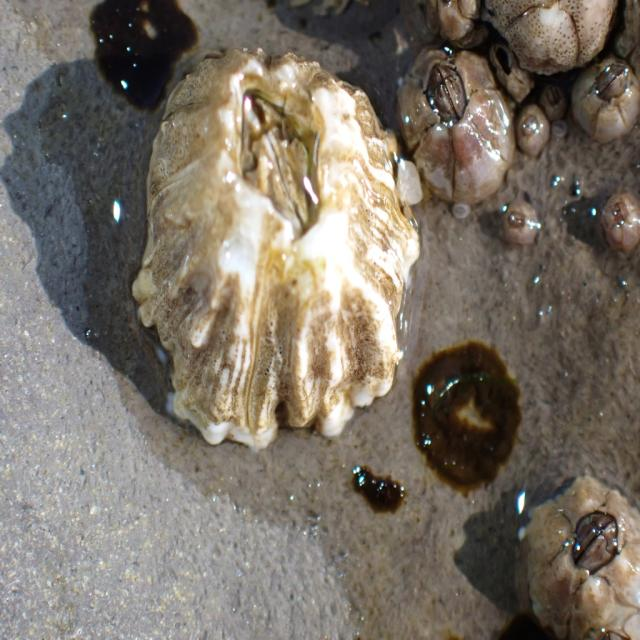barnacles: (132, 49, 420, 461), (517, 463, 640, 640), (402, 39, 516, 200), (570, 62, 640, 145), (595, 182, 640, 267), (502, 194, 540, 254)
